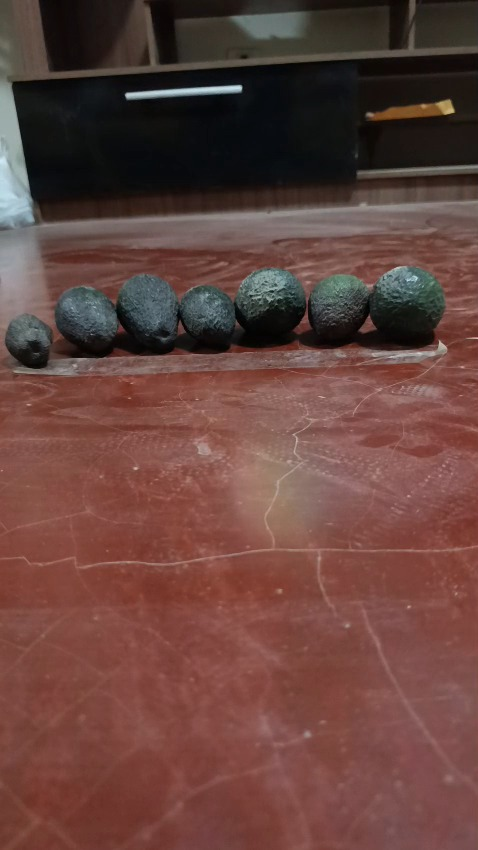Primera: (369, 265, 446, 343), (115, 272, 180, 352), (234, 266, 307, 337)
Segunda: (54, 285, 119, 354), (307, 273, 371, 342), (179, 284, 236, 348)
Tercera: (4, 313, 53, 367)
